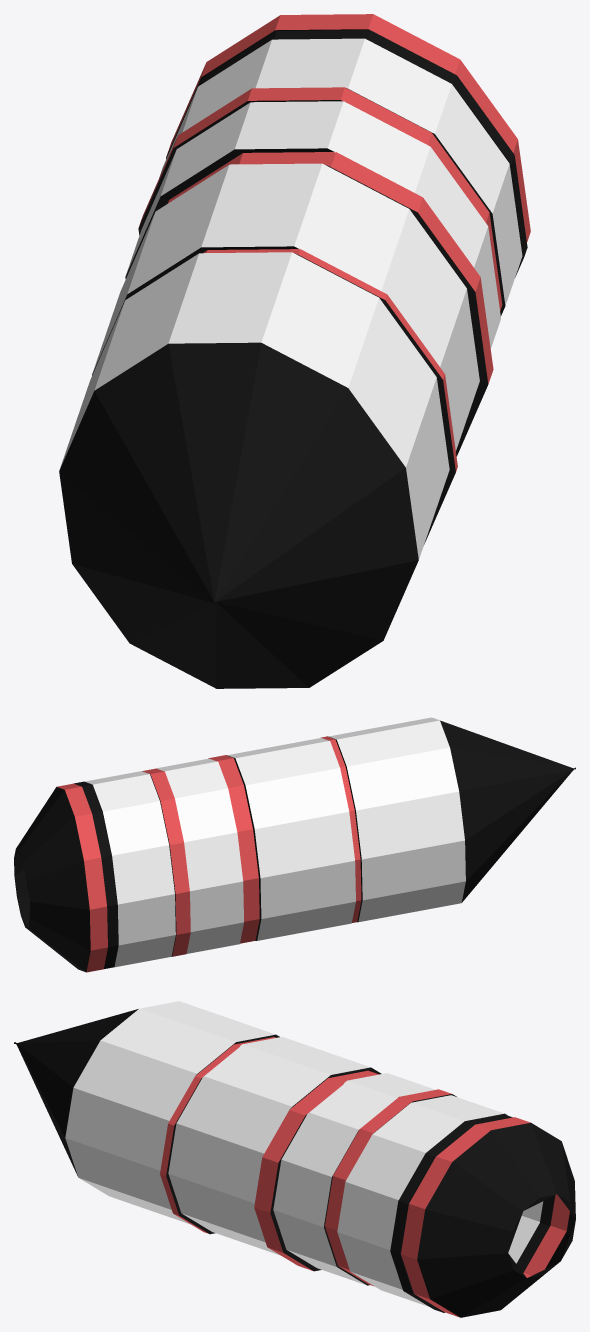
File: ship.glb
The picture shows the model from 3 angles, top to bottom: view 1: azimuth 30°, elevation 25°; view 2: azimuth 150°, elevation 25°; view 3: azimuth 270°, elevation 25°; orthographic projection. The views are drawn at different scales.
Visible parts, largest first — view 1: Ship; view 2: Ship; view 3: Ship.
Boxes of the visible parts, <box> form: Ship: <box>59,14,530,688</box>; Ship: <box>14,717,575,972</box>; Ship: <box>14,1001,575,1317</box>.
Size of the model in its own units: 2.59 by 1.29 by 3.36.
